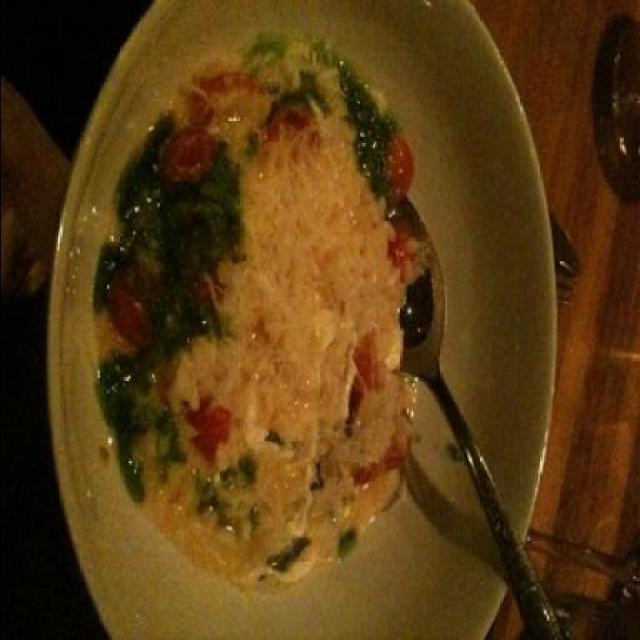Risotto: (88, 93, 400, 576)
